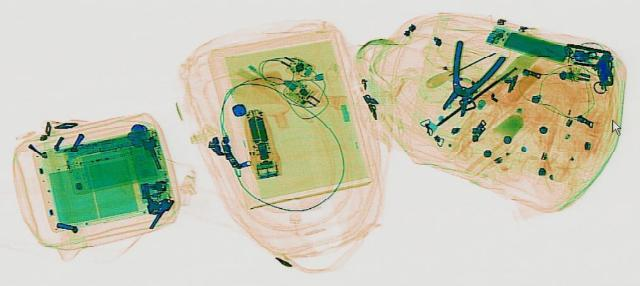Pliers: (420, 39, 512, 116)
